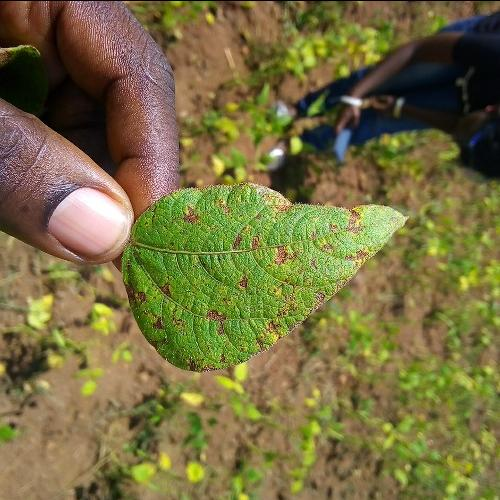hawar: (127, 152, 426, 398)
